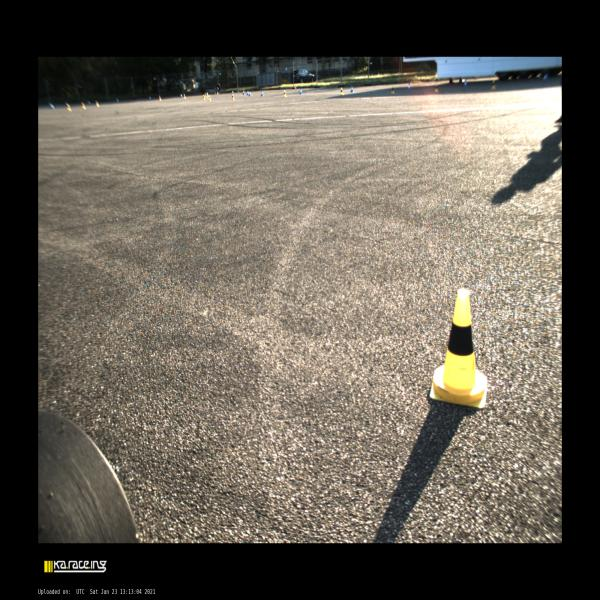blue_cone: (543, 74, 547, 82), (260, 90, 264, 96), (50, 103, 54, 109), (464, 80, 467, 87), (408, 83, 410, 90), (351, 85, 353, 92), (300, 88, 302, 94), (247, 90, 249, 96), (88, 101, 91, 105), (249, 91, 251, 96), (243, 90, 245, 94), (232, 90, 234, 94), (180, 94, 182, 98), (149, 96, 151, 100), (117, 99, 119, 102)
yellow_cone: (430, 289, 487, 408), (490, 80, 496, 90), (434, 83, 439, 93), (66, 103, 72, 111), (340, 87, 344, 95), (283, 89, 287, 97), (391, 86, 394, 94), (96, 101, 100, 107), (82, 102, 85, 109), (203, 94, 206, 100), (159, 95, 162, 101), (232, 94, 234, 100), (209, 95, 211, 101), (206, 93, 208, 99), (184, 94, 186, 99), (205, 92, 206, 98)
